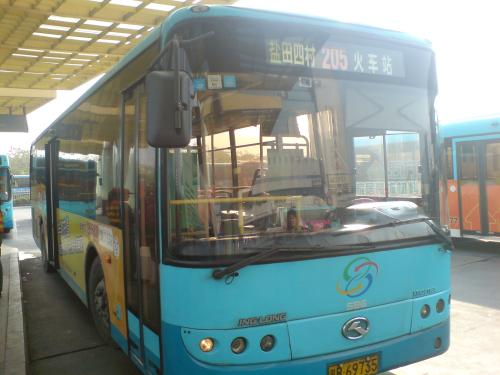bus: (19, 25, 460, 361)
